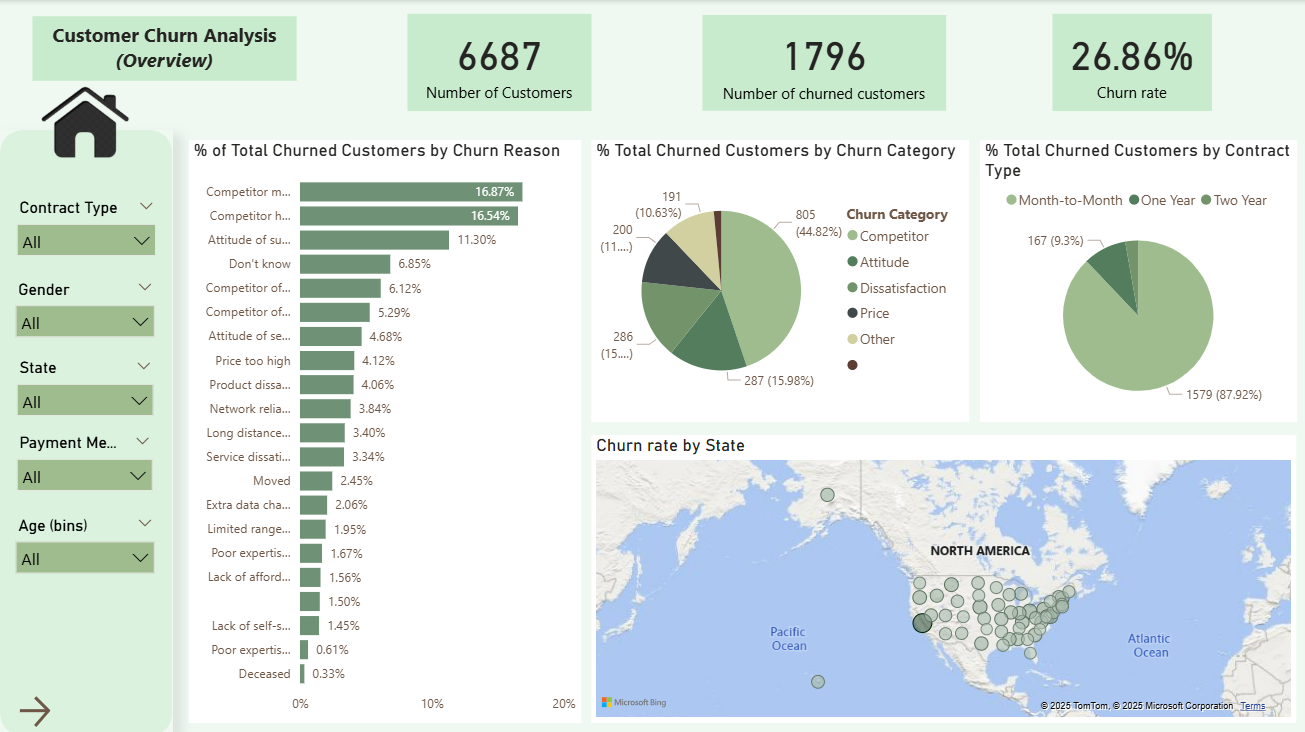

What the dashboard file says about the page in this screenshot:
{"tool":"powerbi","page":{"name":"Overview","canvas":[1280,720],"ordinal":0},"visuals":[{"type":"shape","box":[0,127.1,168.6,592.9],"z":0},{"type":"textbox","box":[31.7,15.9,258.3,37.5],"z":1000},{"type":"card","fields":{"Values":["_Measures.Number of Customers"]},"box":[402.5,15.9,178.9,93.8],"z":2000},{"type":"card","fields":{"Values":["_Measures.Number of churned customers"]},"box":[686.8,14.4,238.1,93.8],"z":3000},{"type":"card","fields":{"Values":["_Measures.Churn rate"]},"box":[1030.1,13,155.8,95.2],"z":4000},{"type":"clusteredBarChart","fields":{"Category":["Databel - Data.Churn Reason"],"Y":["_Measures.% of Total Customers"]},"box":[184.6,137,382.7,569.8],"z":5000},{"type":"pieChart","title":"% Total Churned Customers by Churn Category","fields":{"Category":["Databel - Data.Churn Category"],"Y":["Sum(Databel - Data.Churned)"]},"box":[578.8,136.5,369.8,275.9],"z":6000},{"type":"pieChart","title":"% Total Churned Customers by Contract Type","fields":{"Category":["Databel - Data.Contract Type"],"Y":["Sum(Databel - Data.Churned)"]},"box":[958.6,136.5,310,275.9],"z":7000},{"type":"map","fields":{"Size":["_Measures.Churn rate"],"Category":["Databel - Data.State"]},"box":[578.4,425.5,689.7,281.3],"z":8000},{"type":"image","box":[32.3,61.5,103.1,107.7],"z":9000},{"type":"slicer","fields":{"Values":["Databel - Data.Contract Type"]},"box":[6.1,189.5,156.5,84.4],"z":10000},{"type":"slicer","fields":{"Values":["Databel - Data.Gender"]},"box":[4.9,269,156.5,77],"z":11000},{"type":"slicer","fields":{"Values":["Databel - Data.State"]},"box":[6.1,346.1,154.1,78.3],"z":12000},{"type":"actionButton","box":[13,676.7,47.6,40.4],"z":13000},{"type":"slicer","fields":{"Values":["Databel - Data.Payment Method"]},"box":[5.8,419.8,152.9,80.8],"z":14000},{"type":"slicer","fields":{"Values":["Databel - Data.Age (bins)"]},"box":[5.8,493.4,152.9,72.1],"z":14001}]}

Visuals, with their boxes in screenshot pixels (x1, y1, x2, y2), scaled from the page's 1280x720 canvas onto the 1305x732 screenshot:
shape: box(0, 129, 172, 731)
textbox: box(32, 16, 296, 54)
card - _Measures.Number of Customers: box(410, 16, 593, 112)
card - _Measures.Number of churned customers: box(700, 15, 943, 110)
card - _Measures.Churn rate: box(1050, 13, 1209, 110)
clusteredBarChart - Databel - Data.Churn Reason x _Measures.% of Total Customers: box(188, 139, 578, 719)
"% Total Churned Customers by Churn Category" pieChart: box(590, 139, 967, 419)
"% Total Churned Customers by Contract Type" pieChart: box(977, 139, 1293, 419)
map - _Measures.Churn rate x Databel - Data.State: box(590, 433, 1293, 719)
image: box(33, 63, 138, 172)
slicer - Databel - Data.Contract Type: box(6, 193, 166, 278)
slicer - Databel - Data.Gender: box(5, 273, 165, 352)
slicer - Databel - Data.State: box(6, 352, 163, 431)
actionButton: box(13, 688, 62, 729)
slicer - Databel - Data.Payment Method: box(6, 427, 162, 509)
slicer - Databel - Data.Age (bins): box(6, 502, 162, 575)
